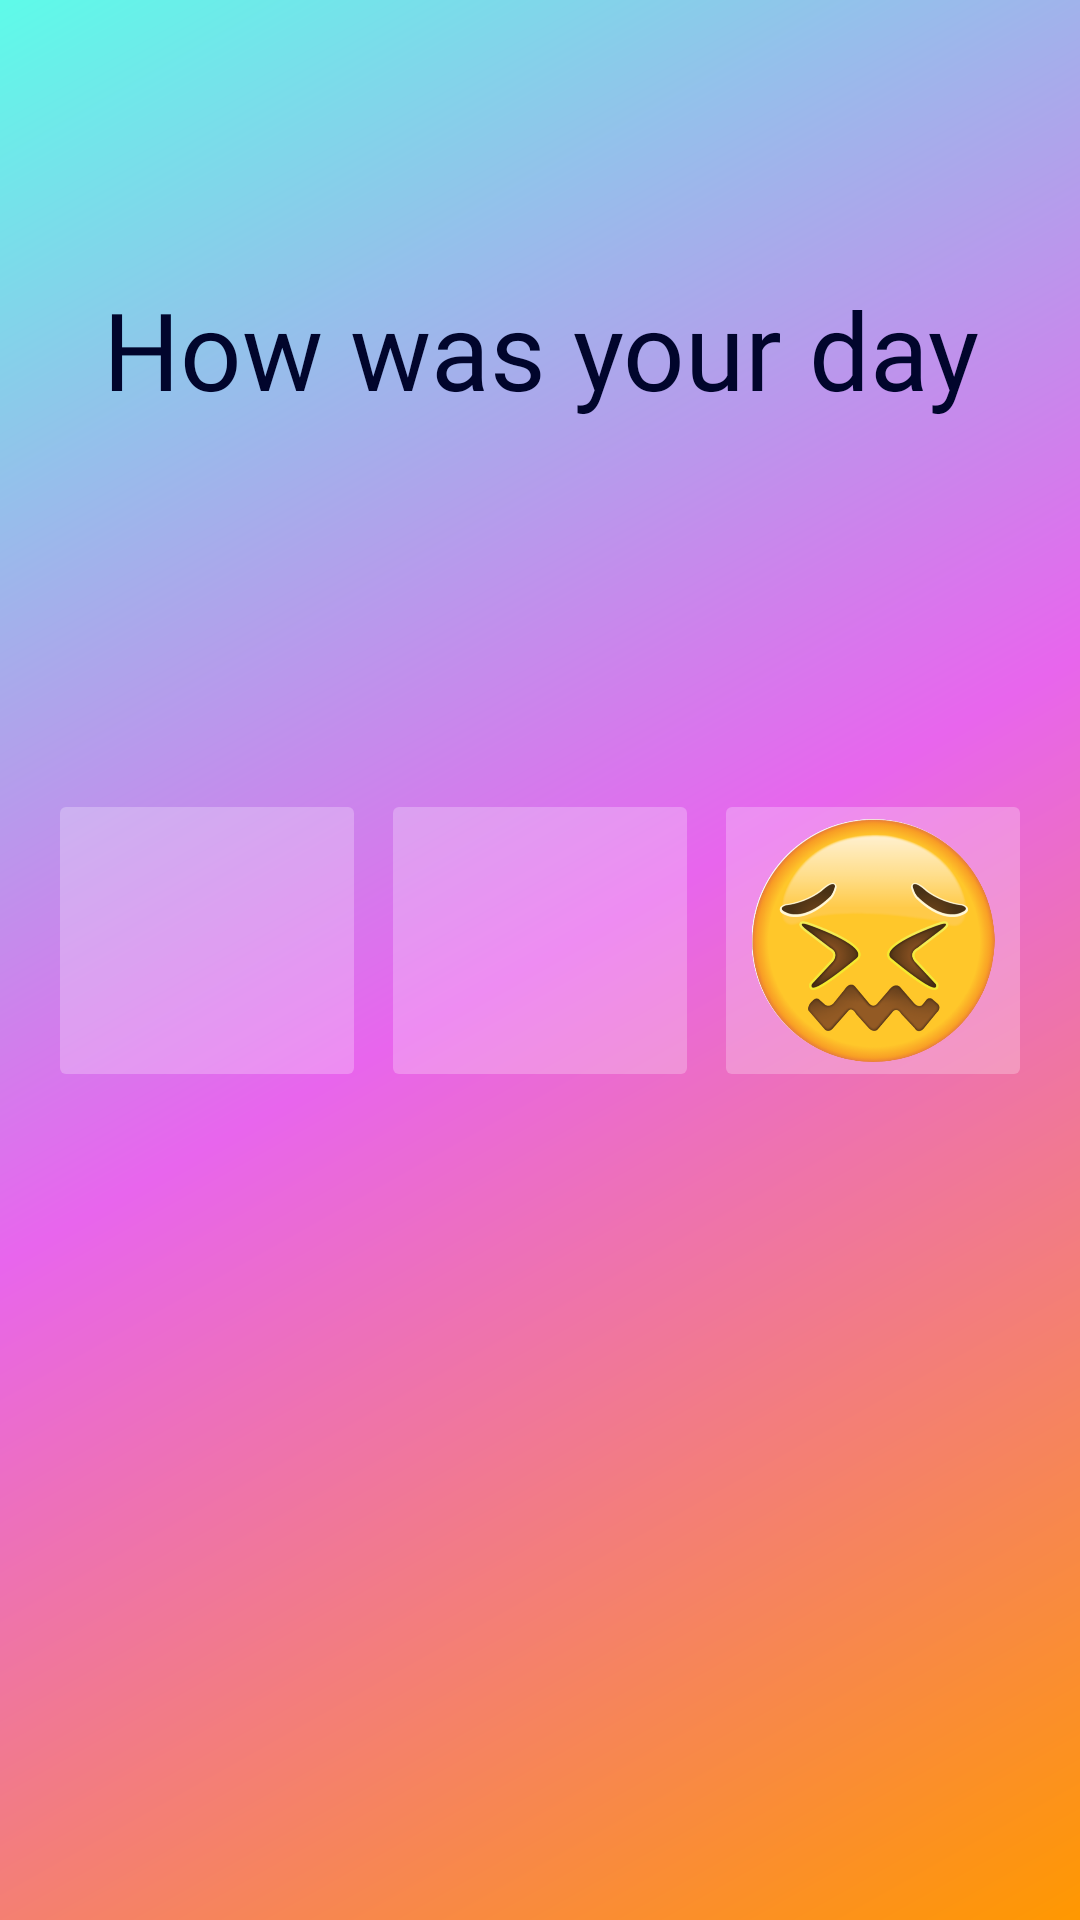

Icon click points for this 1080px x 1920px phone screenshot, format [x,y]:
angry: [873,940]
